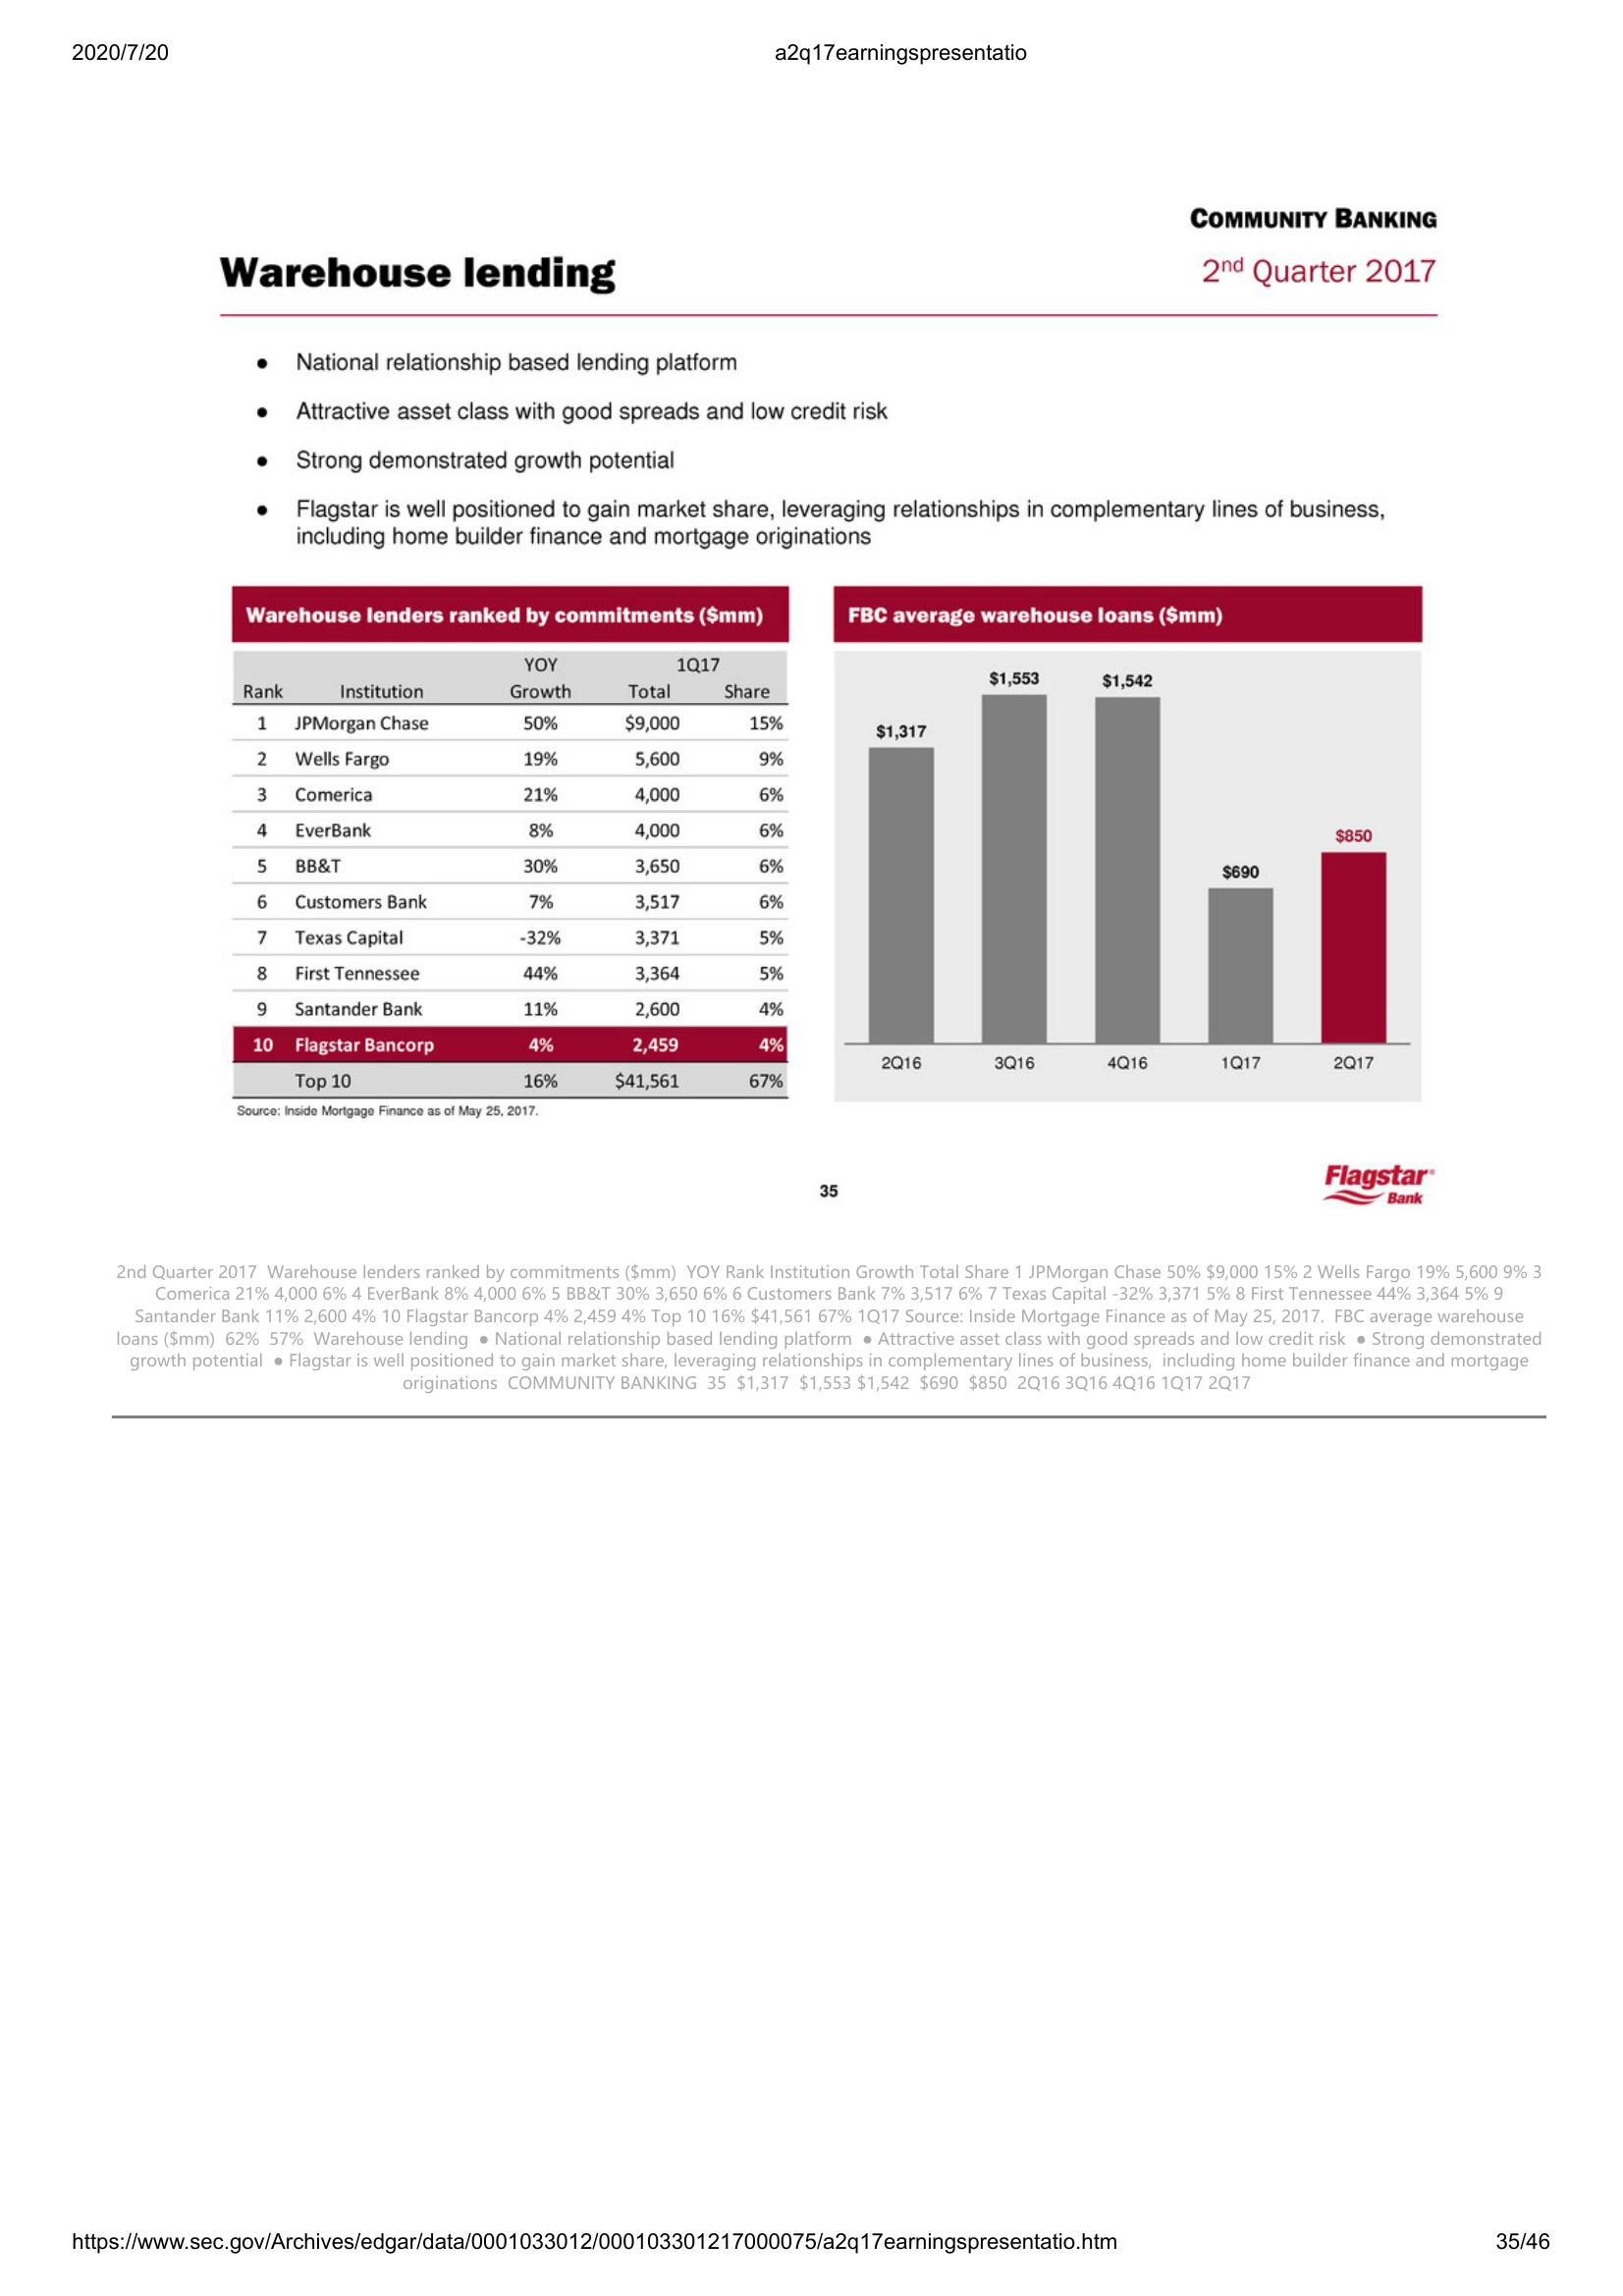table: (230, 581, 794, 1101)
